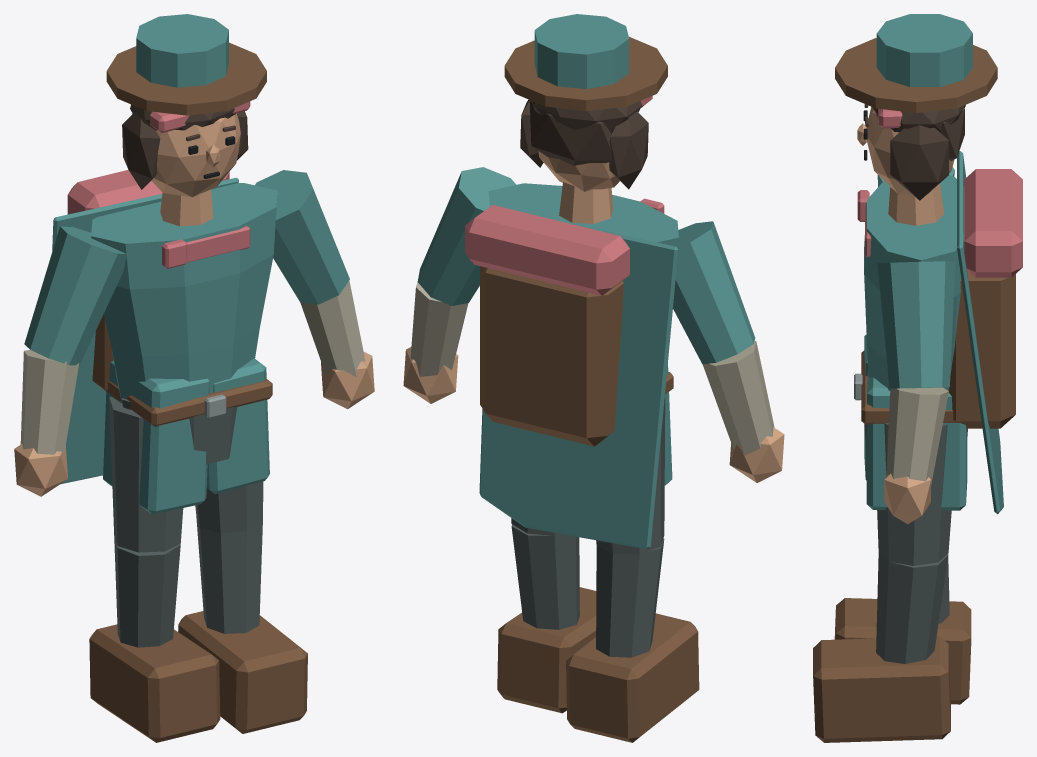
The model's file is npc_traveller_step_r_v01.glb.
3 renders of one model, left to right at view 1: azimuth 30°, elevation 25°; view 2: azimuth 150°, elevation 25°; view 3: azimuth 270°, elevation 25°, orthographic.
Visible parts, largest first — view 1: GEO_npc_traveller_step_r_v01; view 2: GEO_npc_traveller_step_r_v01; view 3: GEO_npc_traveller_step_r_v01.
Part boxes in pixels (box(x1,y1,x2,y2)): GEO_npc_traveller_step_r_v01: box(14, 14, 374, 742); GEO_npc_traveller_step_r_v01: box(403, 14, 784, 742); GEO_npc_traveller_step_r_v01: box(813, 14, 1022, 742).
Bounding box in the file's own units: 1.24 × 2.17 × 0.6104.
